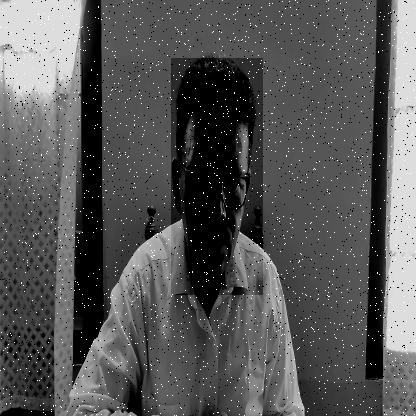Normal: (171, 58, 263, 295)
